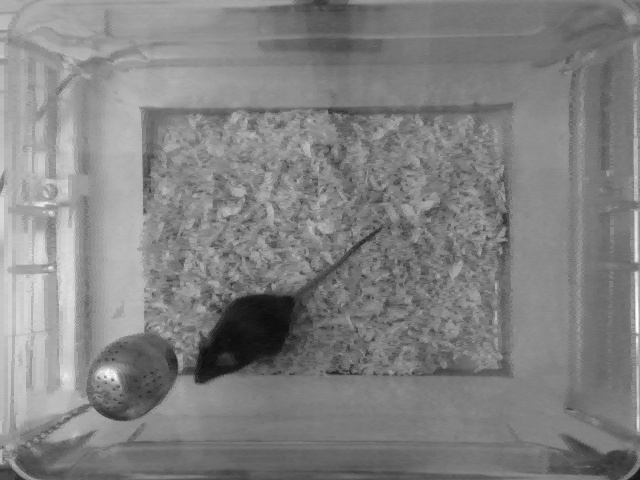mice: (190, 222, 384, 388)
